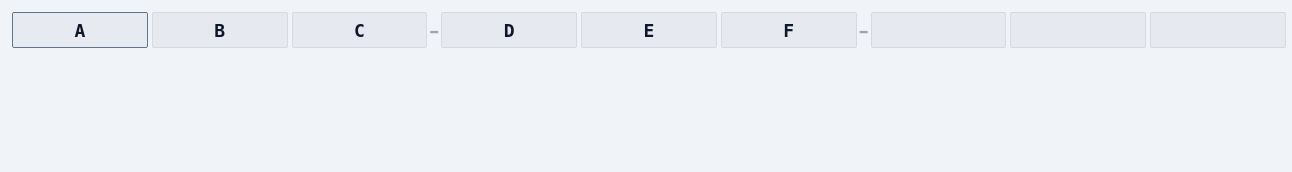
JoinCodeBoxes › clears a populated character with {Backspace}
Click the field named "Character 2" at (220, 30), box [152,12,288,48]
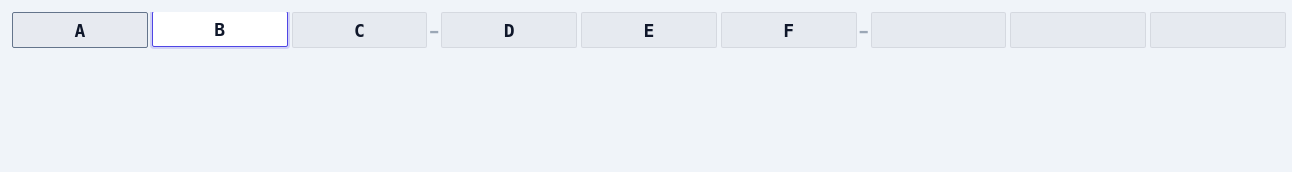
Press Backspace
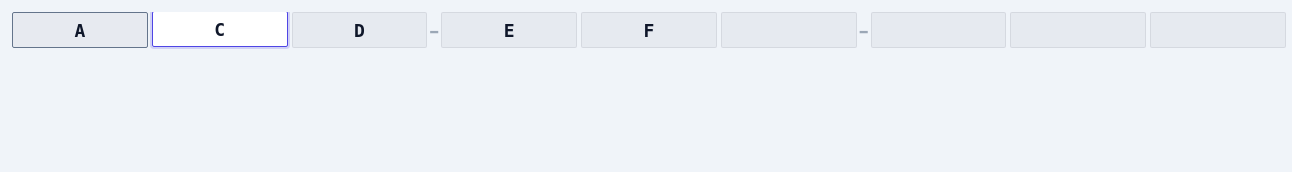
Now the field named "Character 2" holds "C", box [152,11,288,47]
Now the field named "Character 6" is empty, box [721,12,857,48]
